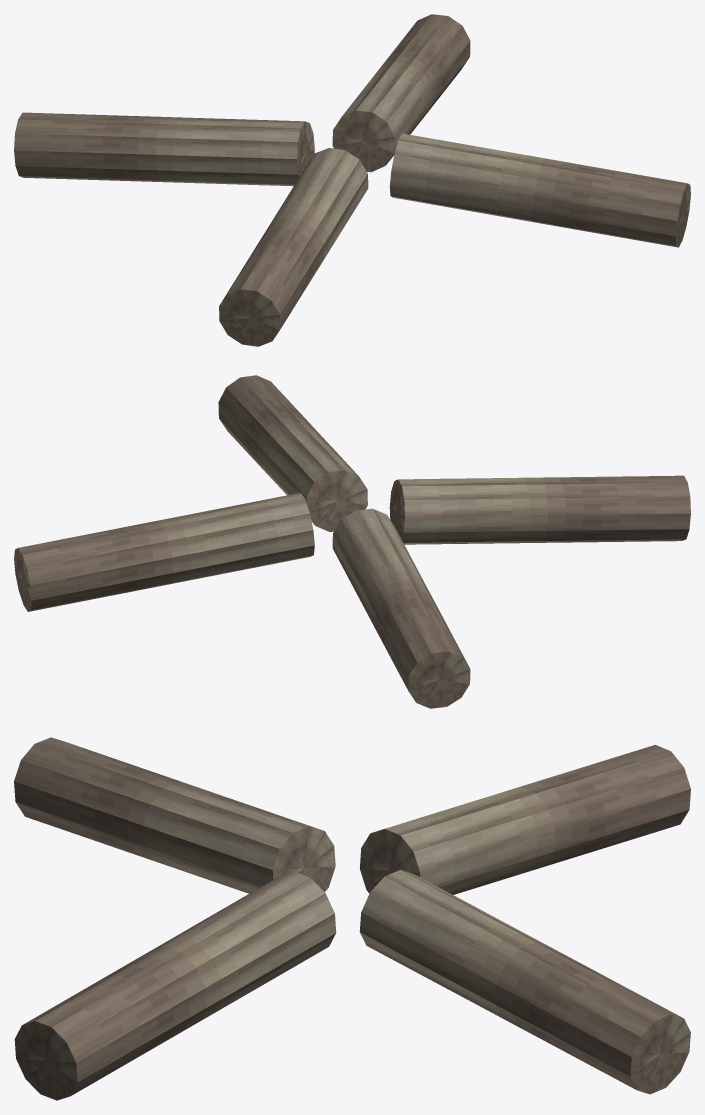
Rendered from fire_base.gltf.
3 renders of one model, top to bottom at view 1: azimuth 30°, elevation 25°; view 2: azimuth 150°, elevation 25°; view 3: azimuth 270°, elevation 25°, orthographic. The views are drawn at different scales.
Visible parts, largest first — view 1: cylinder (×4); view 2: cylinder (×4); view 3: cylinder (×4).
Part boxes in pixels (bbox=[...]): cylinder (×4): bbox=[14, 14, 690, 346]; cylinder (×4): bbox=[14, 375, 690, 708]; cylinder (×4): bbox=[14, 737, 690, 1100].
Size of the model in its own units: 5.33 by 0.9122 by 5.06.
Materials: 1 (1 with a texture image).
